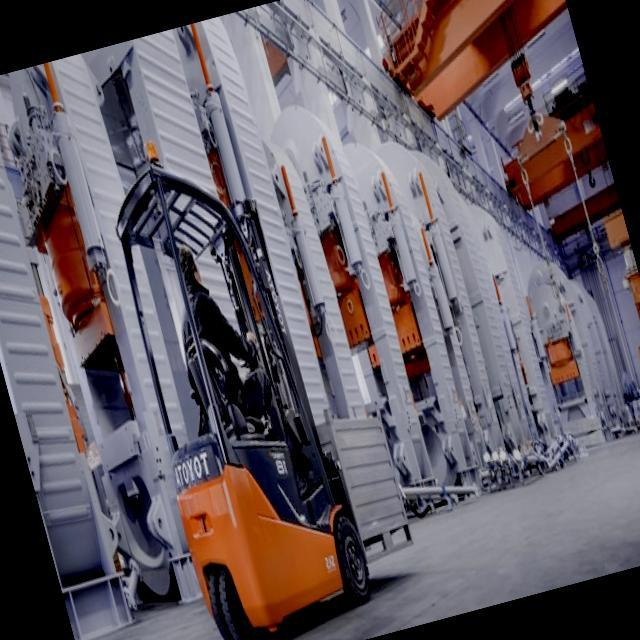driver: (166, 233, 289, 442)
forklift: (89, 119, 390, 640)
